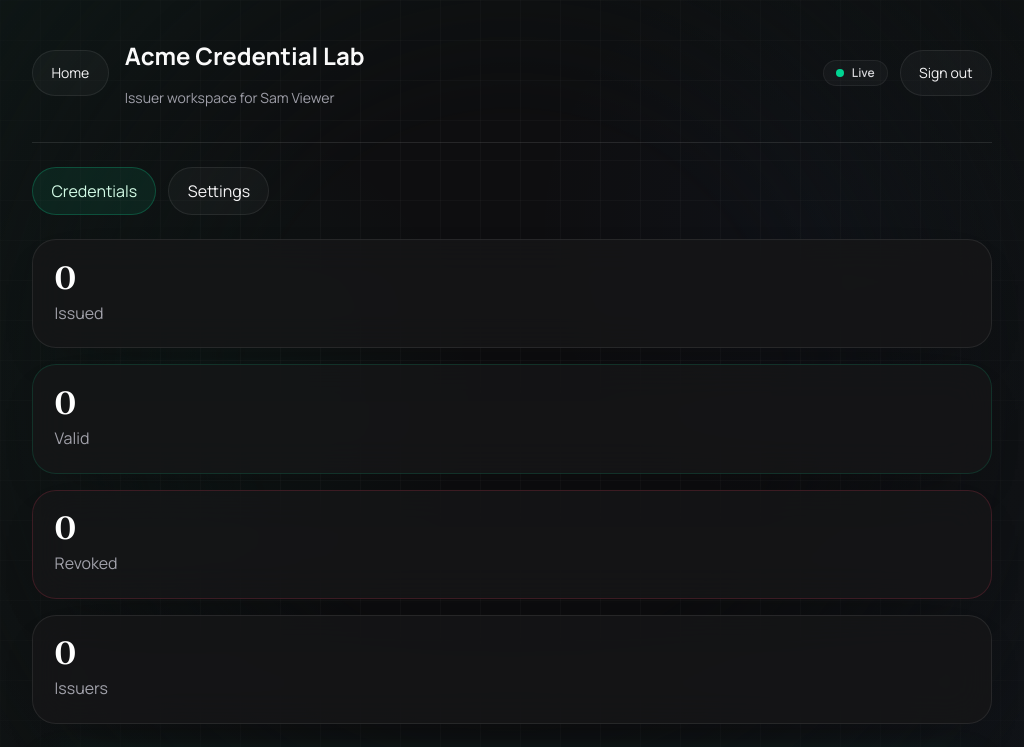
DashboardApp permissions › keeps invite management read-only for non-managers
Click the button "Settings": x=219, y=191 left=168, top=167, right=270, bottom=215
(page scrolled)
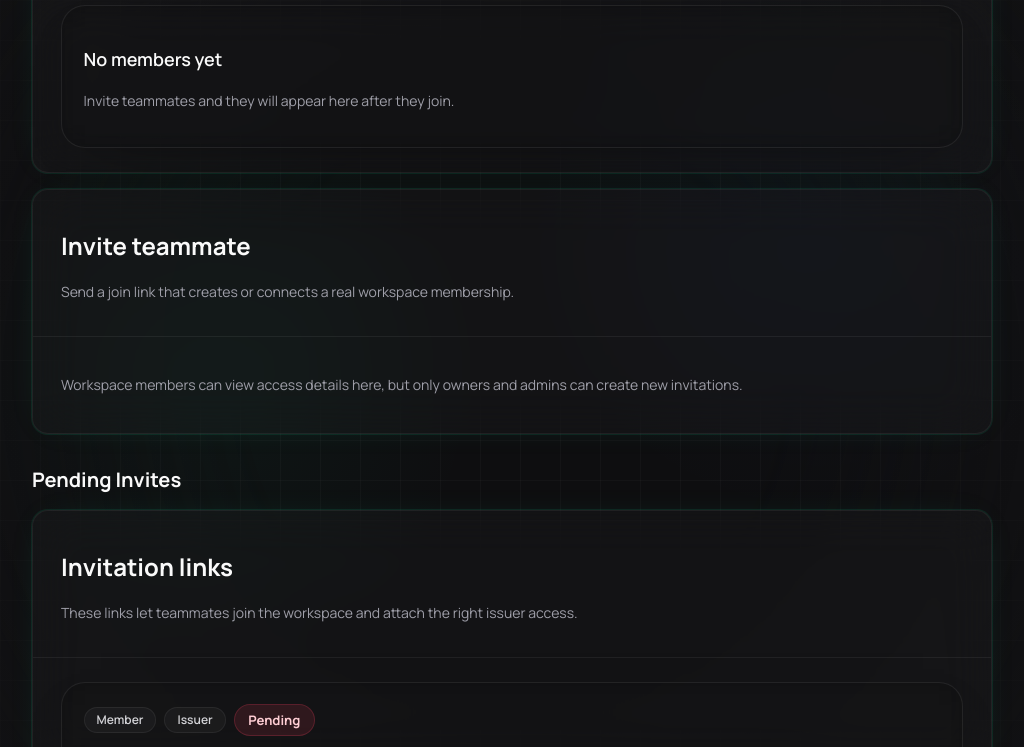
Result: the text "Workspace members can view access details here, but only owners and admins can create new invitations." is shown at left=61, top=375, right=742, bottom=394
Result: the text "Revoke" is gone
